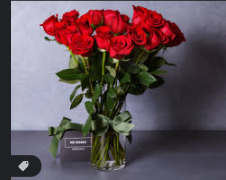RedRose: (106, 34, 136, 58), (125, 21, 151, 45), (145, 30, 168, 56), (159, 21, 182, 47), (70, 33, 94, 55), (102, 10, 125, 32), (41, 13, 61, 36), (91, 26, 111, 49), (55, 24, 76, 44), (147, 10, 166, 29), (133, 3, 148, 23), (78, 11, 91, 32), (64, 7, 79, 23)
